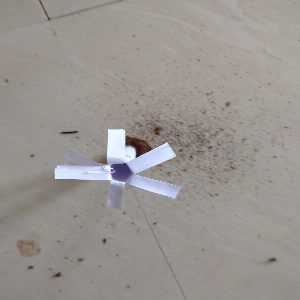weed: (53, 126, 185, 206)
